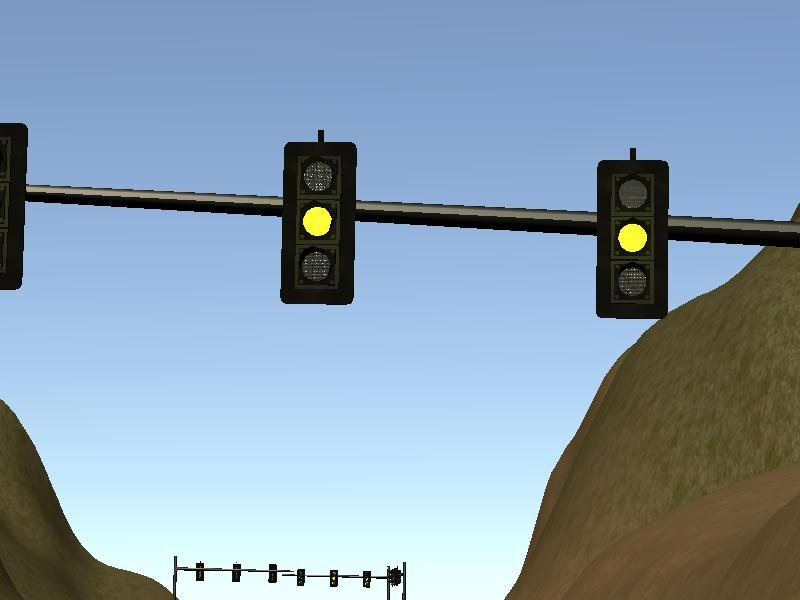yellow: (274, 125, 363, 318), (586, 142, 676, 327)
